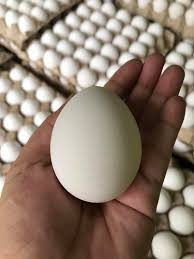eggs: (44, 85, 144, 198), (39, 10, 166, 84), (0, 75, 80, 160), (158, 171, 194, 255)
